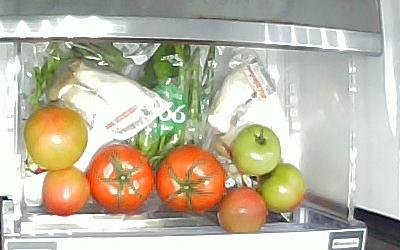tomato: (154, 143, 225, 213), (85, 143, 155, 213), (23, 105, 88, 169), (229, 123, 281, 176), (254, 162, 305, 213), (40, 164, 90, 216), (215, 185, 267, 232)
